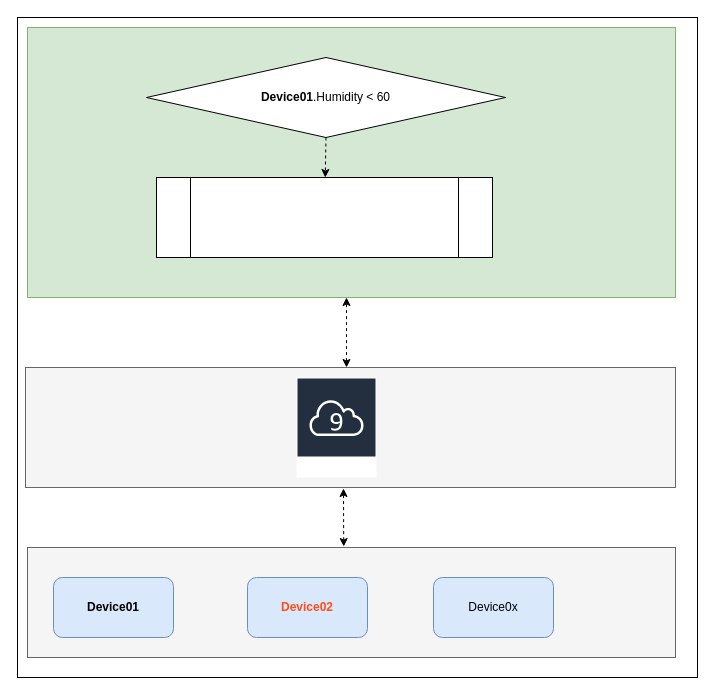
Image size: 715x695. Some labels were removed from this diagram. The shapes that lost their labels are listed below. From the top down, each one's centre as x and y in pixels, then its label:
point (324, 217): Device02 .Switch01 = on
point (336, 427): Cloud
